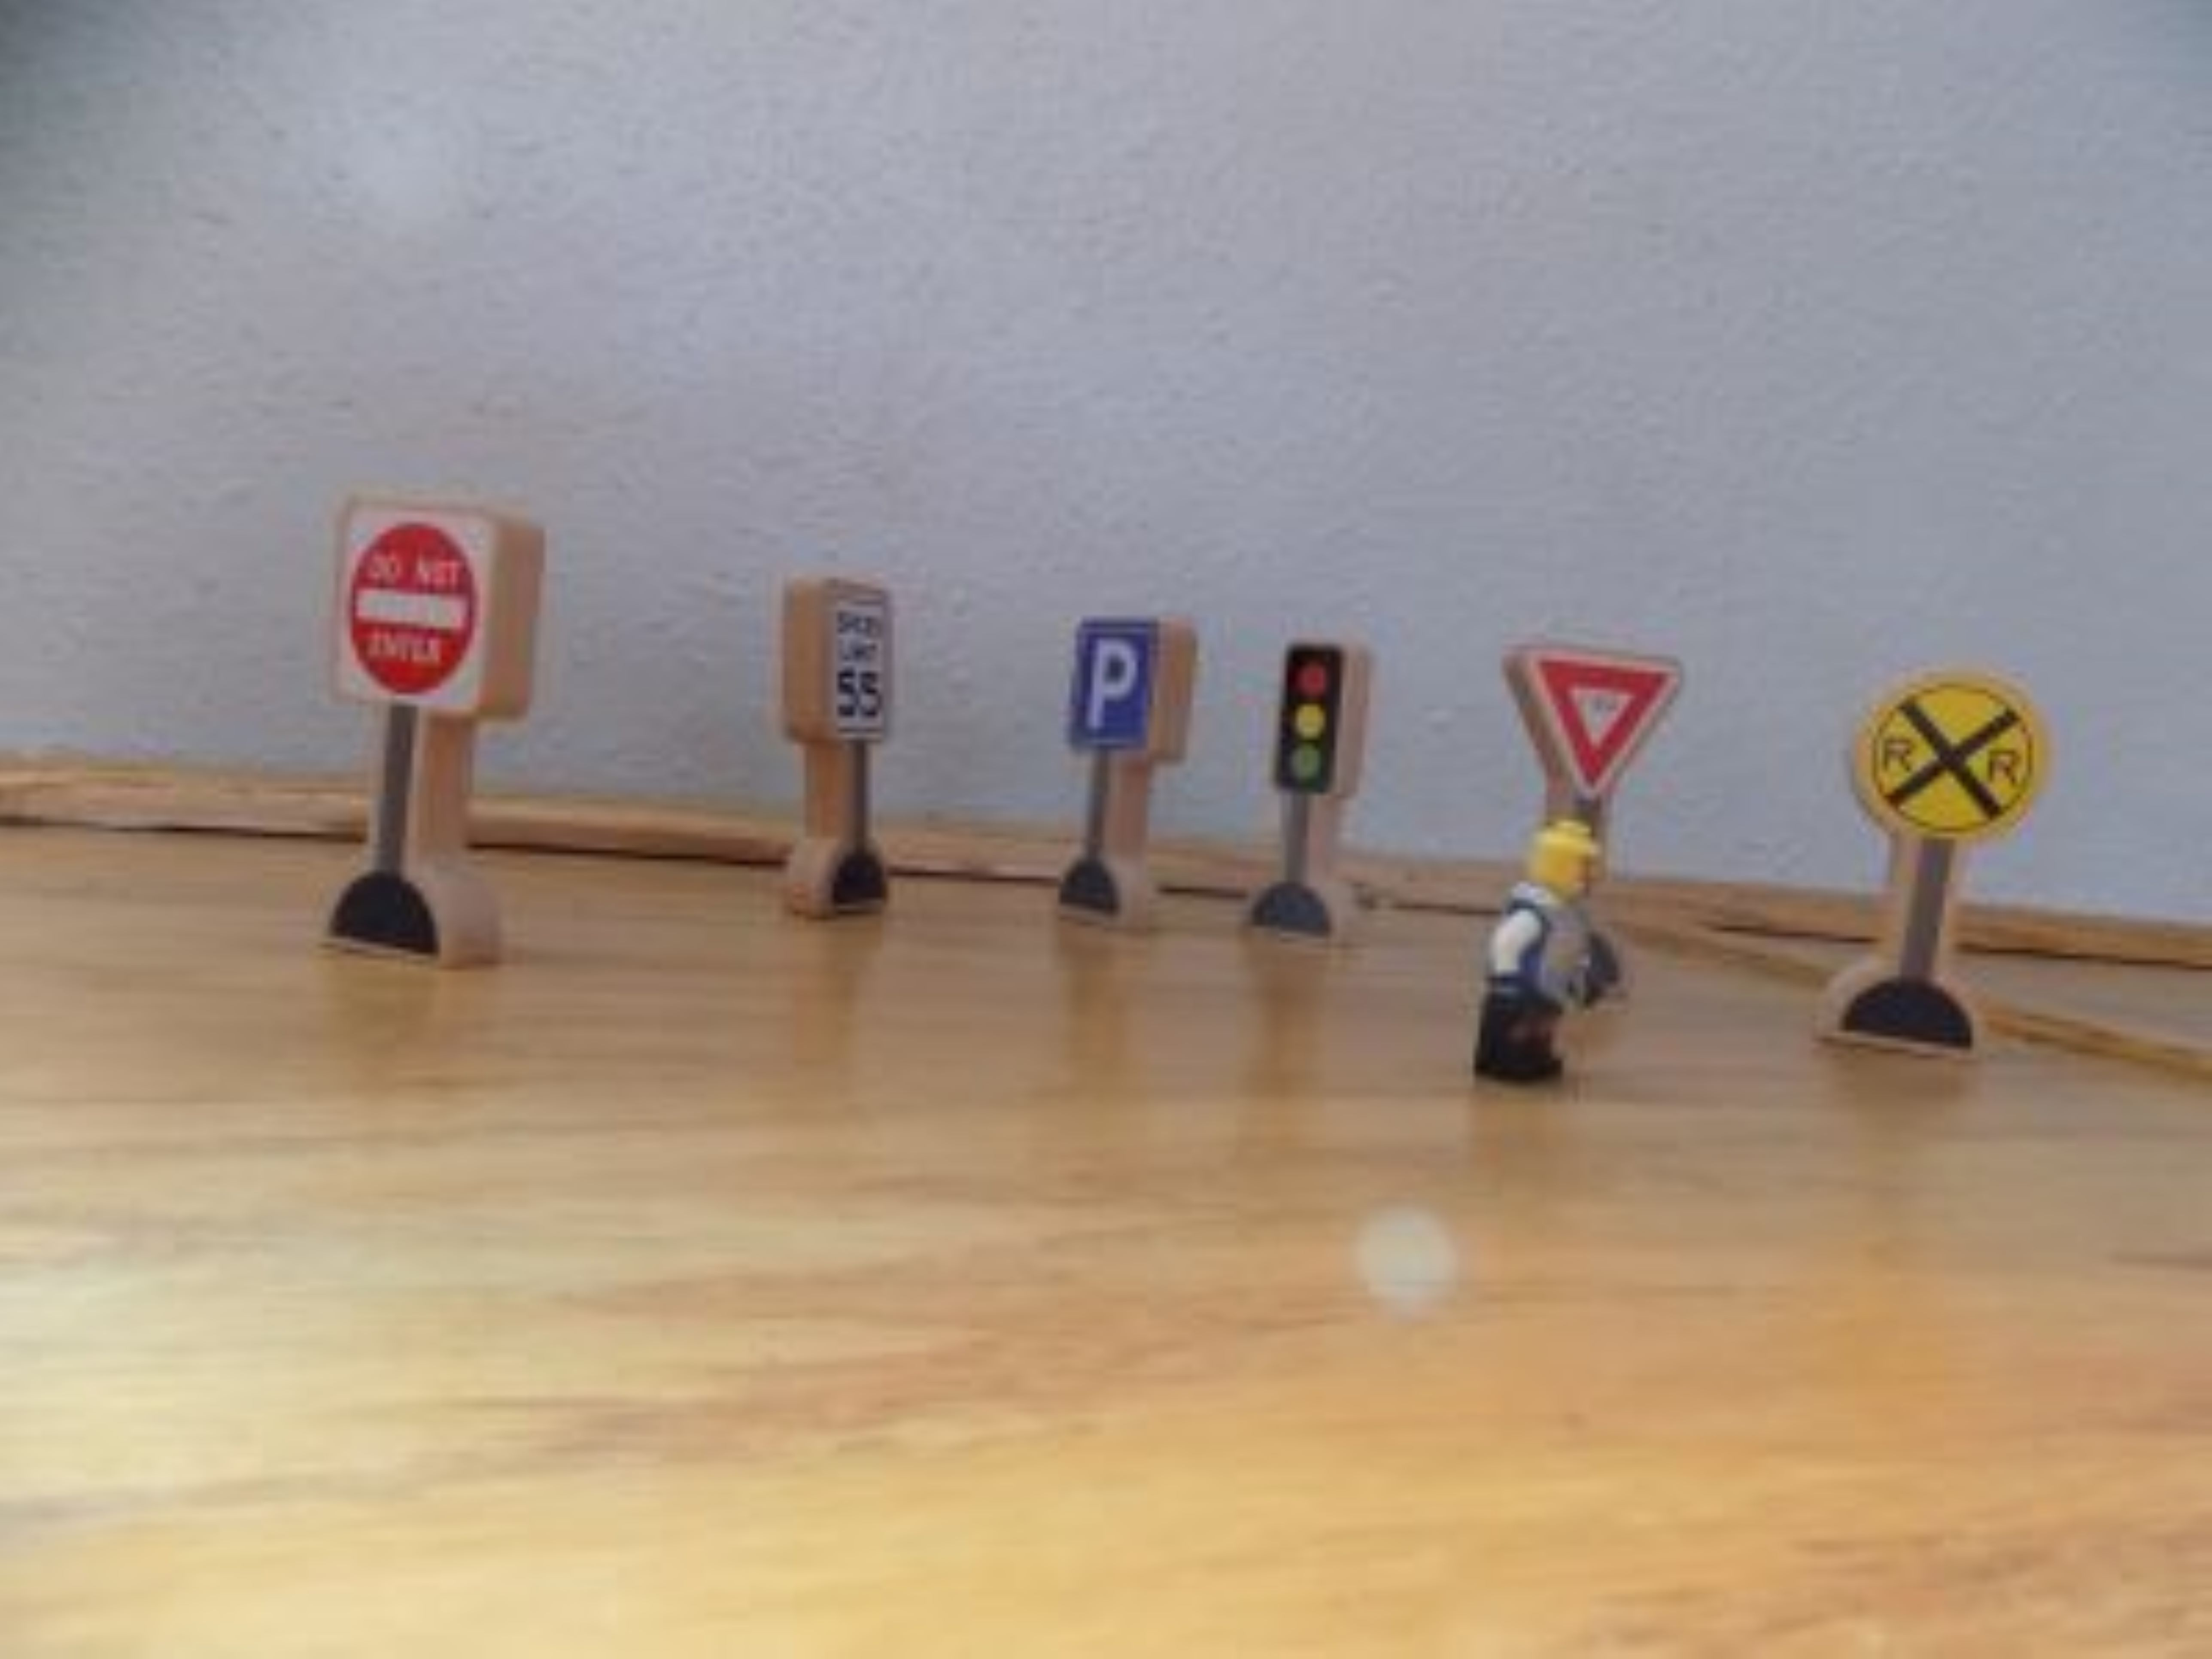Do Not Enter: (325, 493, 552, 745)
Parking Sign: (1067, 599, 1203, 814)
Person: (1452, 817, 1620, 1111)
Rail Road Sign: (1838, 654, 2065, 855)
Red Traffic Light: (1268, 627, 1382, 817)
Speed Limit 55: (770, 562, 923, 776)
Yield Sign: (1495, 642, 1692, 812)
